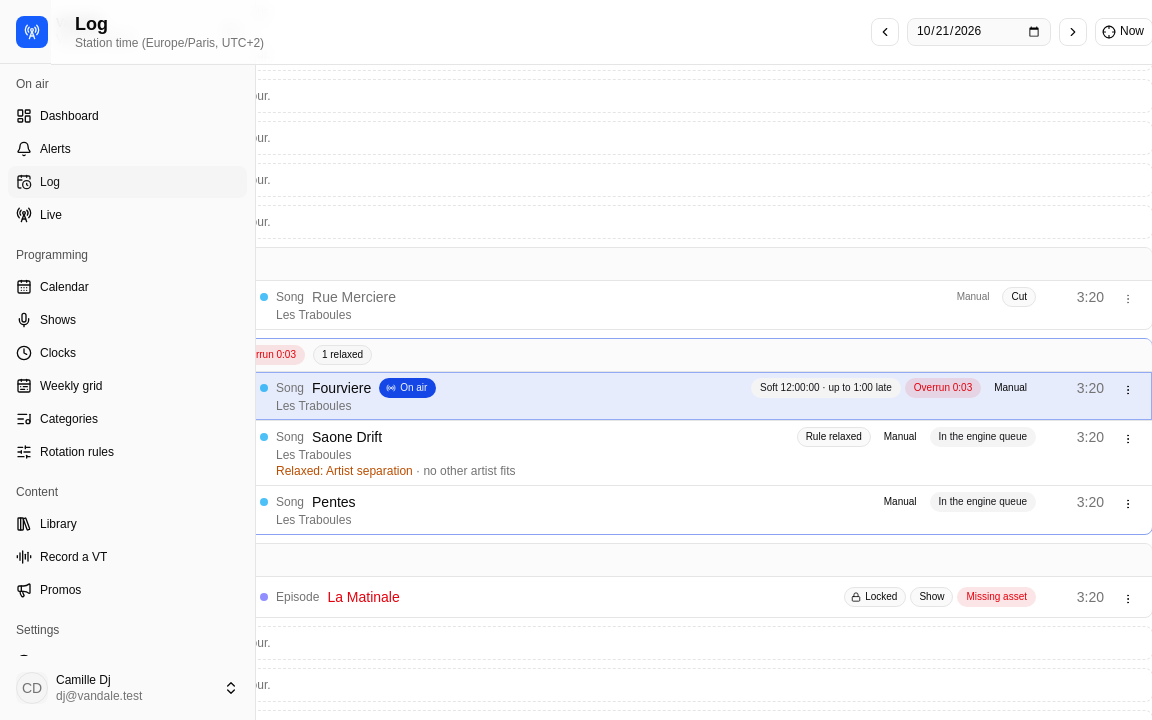
Test: log timeline › offers replacements that fit the slot, closest first
The image size is (1152, 720).
(page scrolled)
expect the text "Saone Drift" is shown: met, box [312,427,382,447]
Click the button named "Actions for Saone Drift": x=1128, y=439 [1116,427,1140,451]
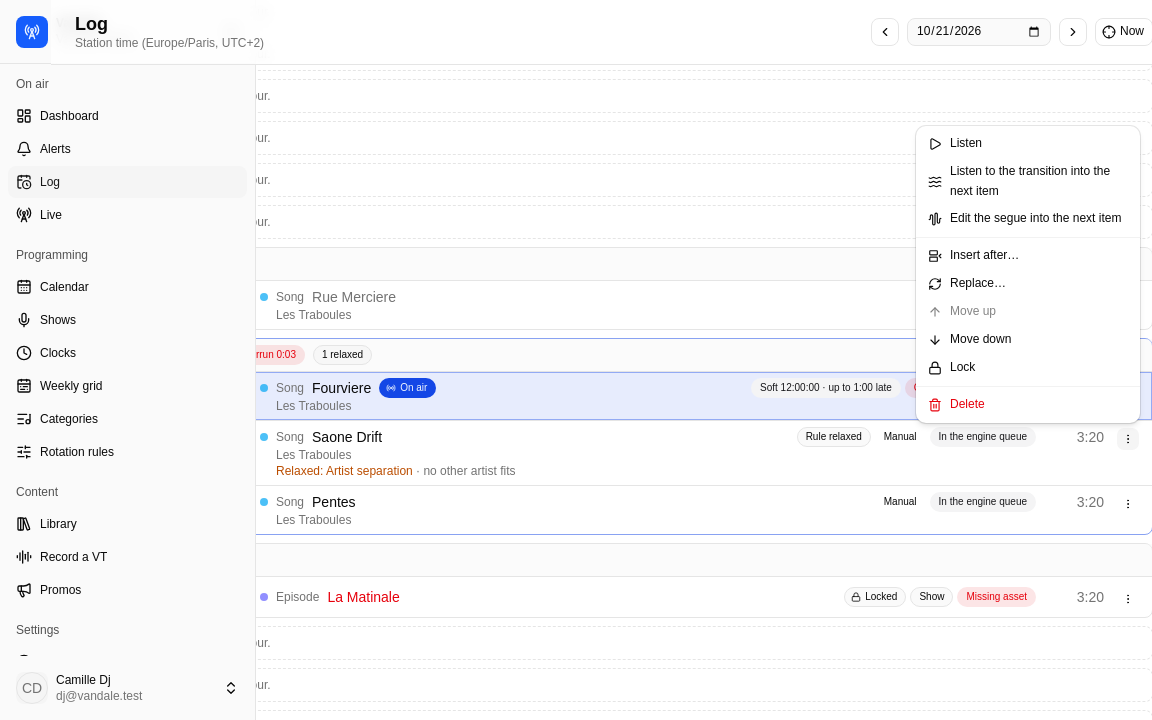
Click the menu item "Replace…": x=967, y=284 [928,276,1006,291]
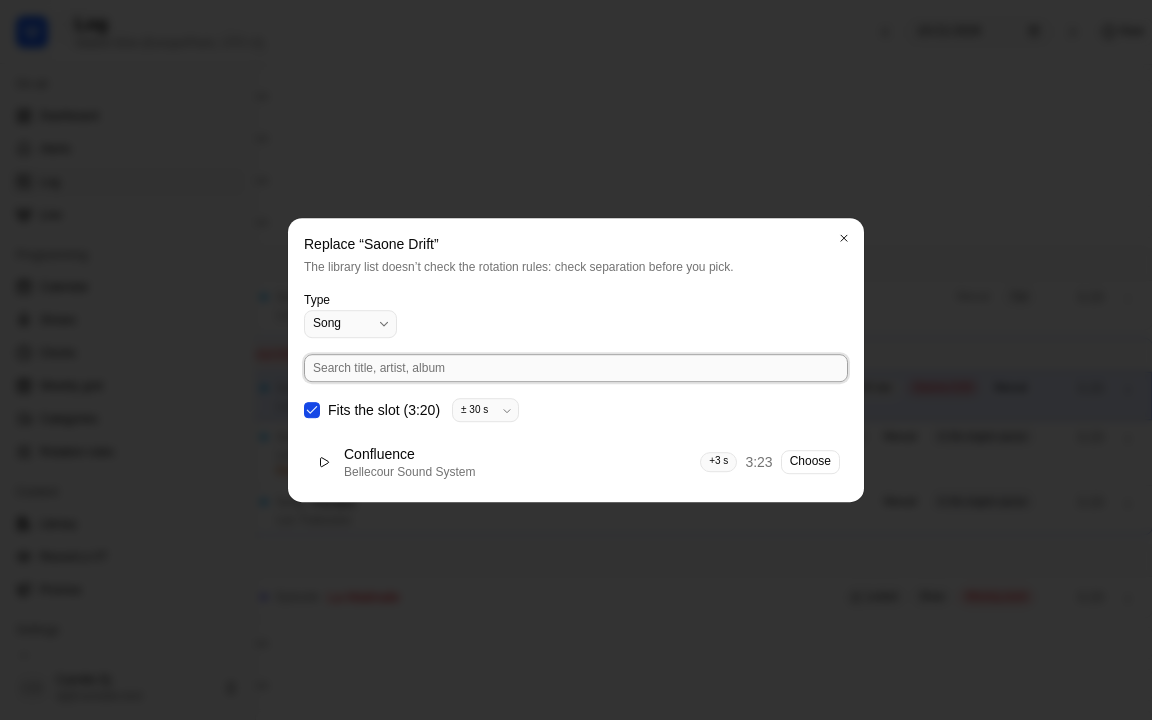
expect the checkbox "Fits the slot (3:20)" is shown: met, box [304,400,440,420]
expect the text "Confluence" is shown: met, box [344,446,415,462]
expect the icon "+3 s" is shown: met, box [700,452,737,472]
// Unticking "fits" shows everything.
Click the checkbox: x=312, y=410 [304,402,320,418]
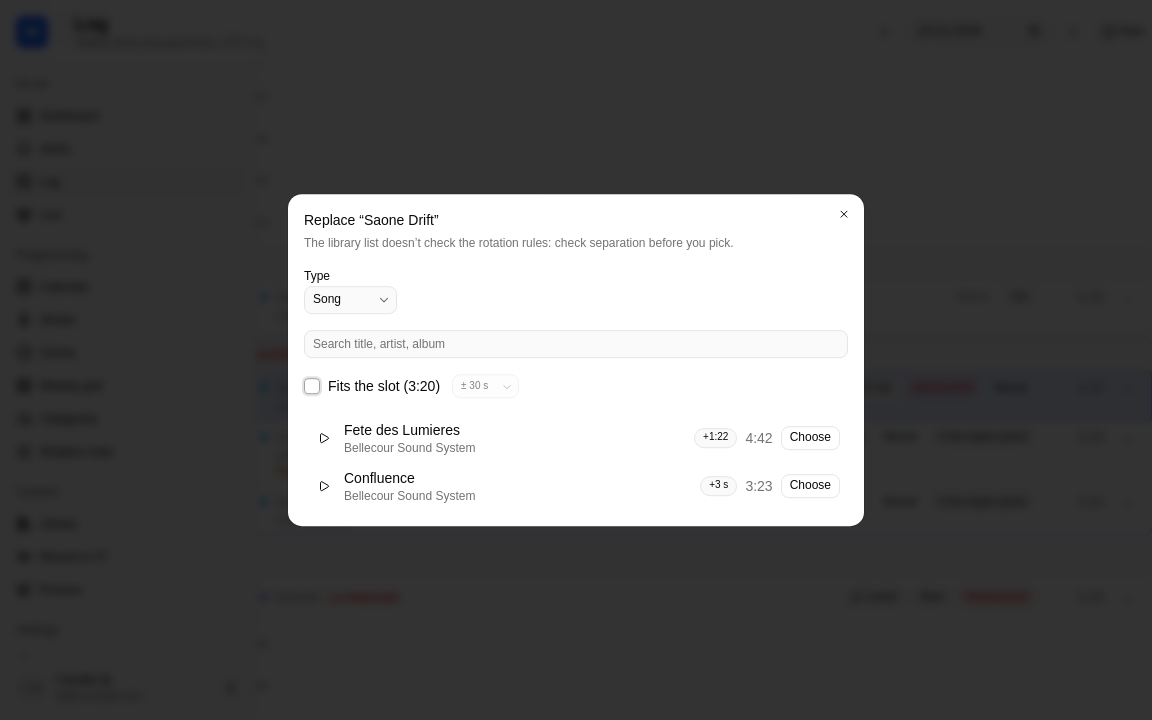
expect the text "Fete des Lumieres" is shown: met, box [344,422,460,438]
